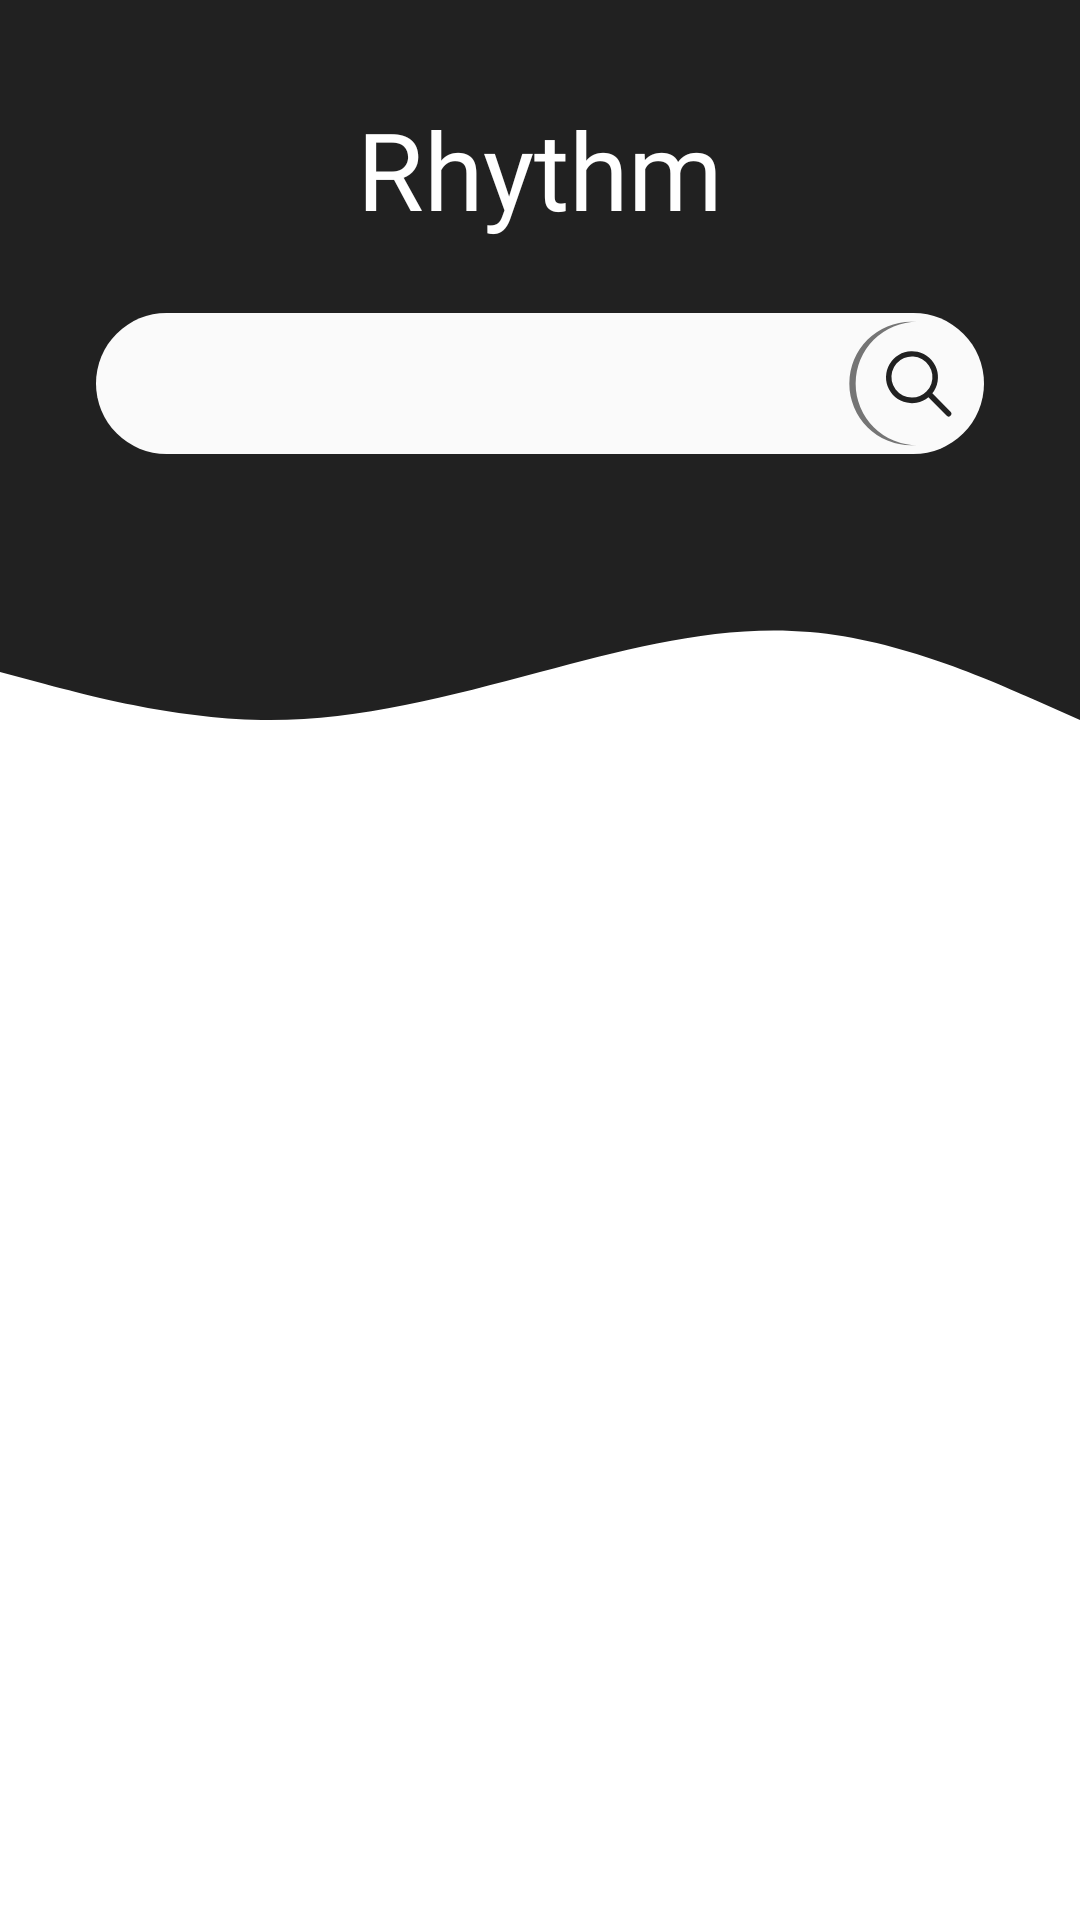

Icon click points for this 1080px×1920px phone screenshot, format (x=x, y=y):
search: (x=913, y=383)
